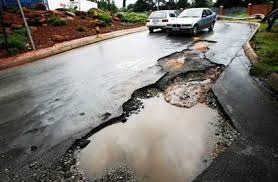pothole: (60, 118, 246, 182), (159, 37, 226, 115)
